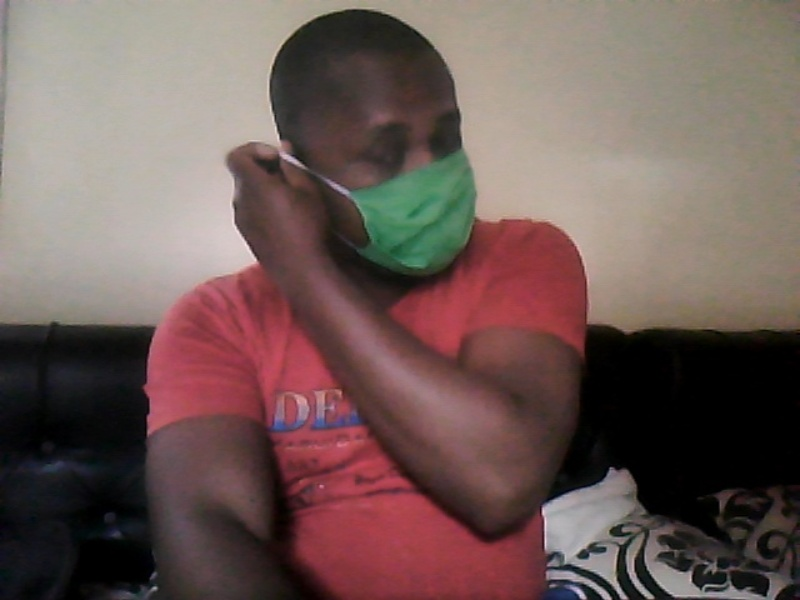ManaoArotava: (270, 14, 506, 283)
